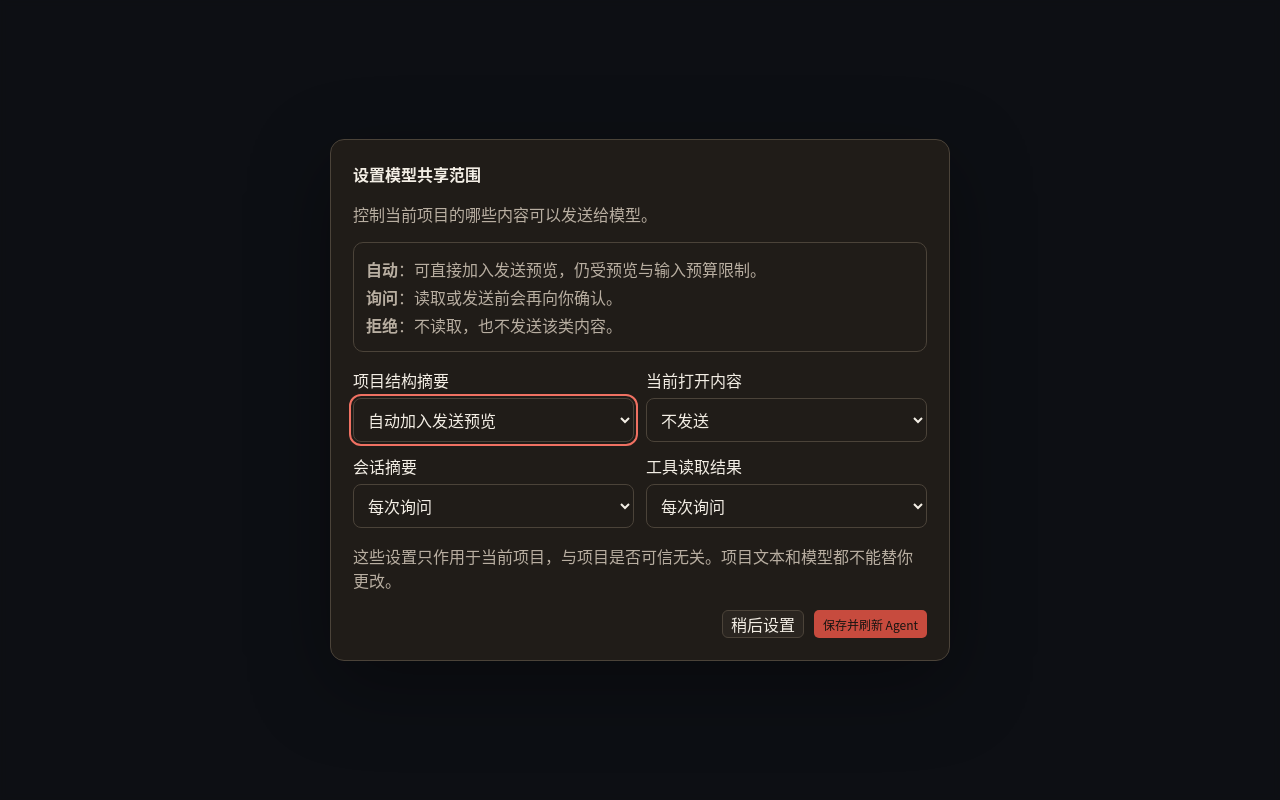
Test: AgentModelSharingDialog › saves the author's exact selection and offers a manual retry
Select "不发送" in the dropdown labelled "当前打开内容" at (786, 420), box 646,398 -> 927,442
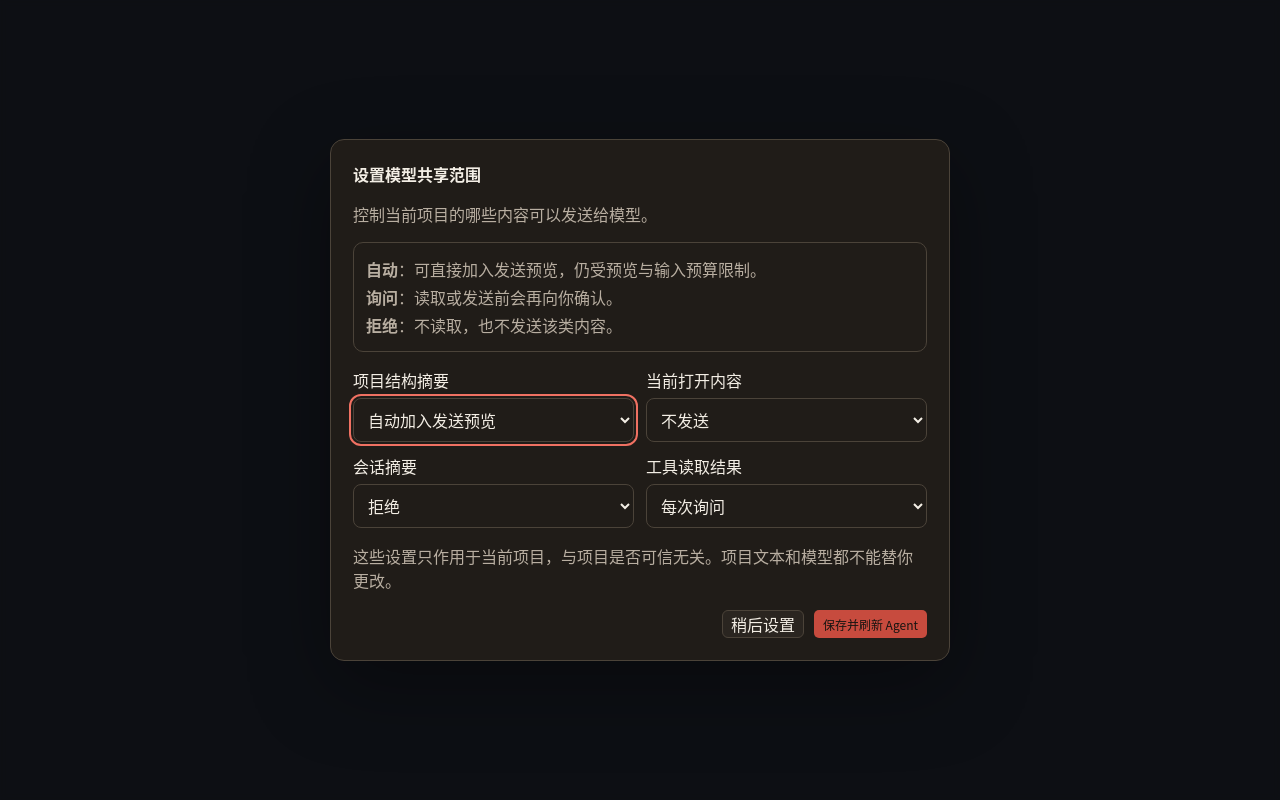
Select "拒绝" in the dropdown named "会话摘要" at (494, 506), box 353,484 -> 634,528
Click the button with class "ns-ai-send-button".
click(870, 624)  # box 814,610 -> 927,638
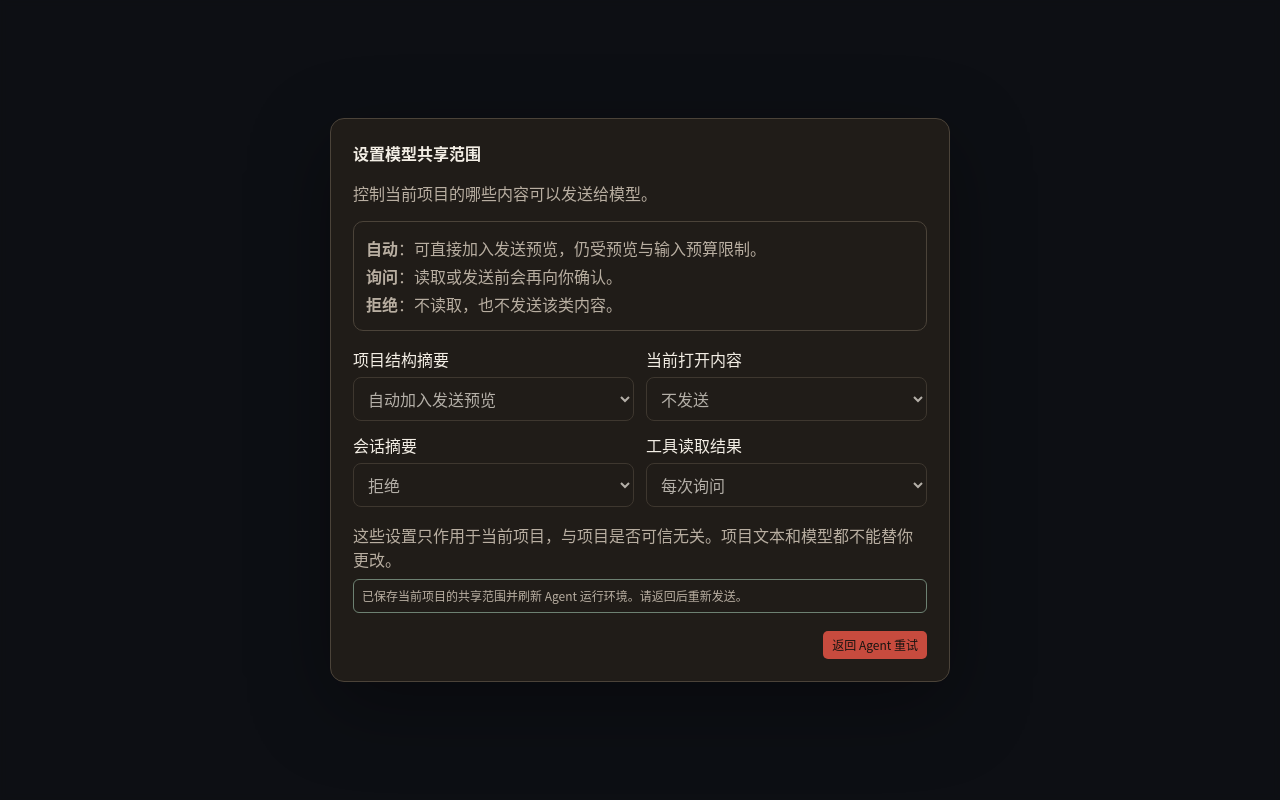
Expected: the text "已保存当前项目的共享范围并刷新 Agent 运行环境" is shown, 362,587 -> 748,604
Expected: the text "返回 Agent 重试" is shown, 823,631 -> 927,659
